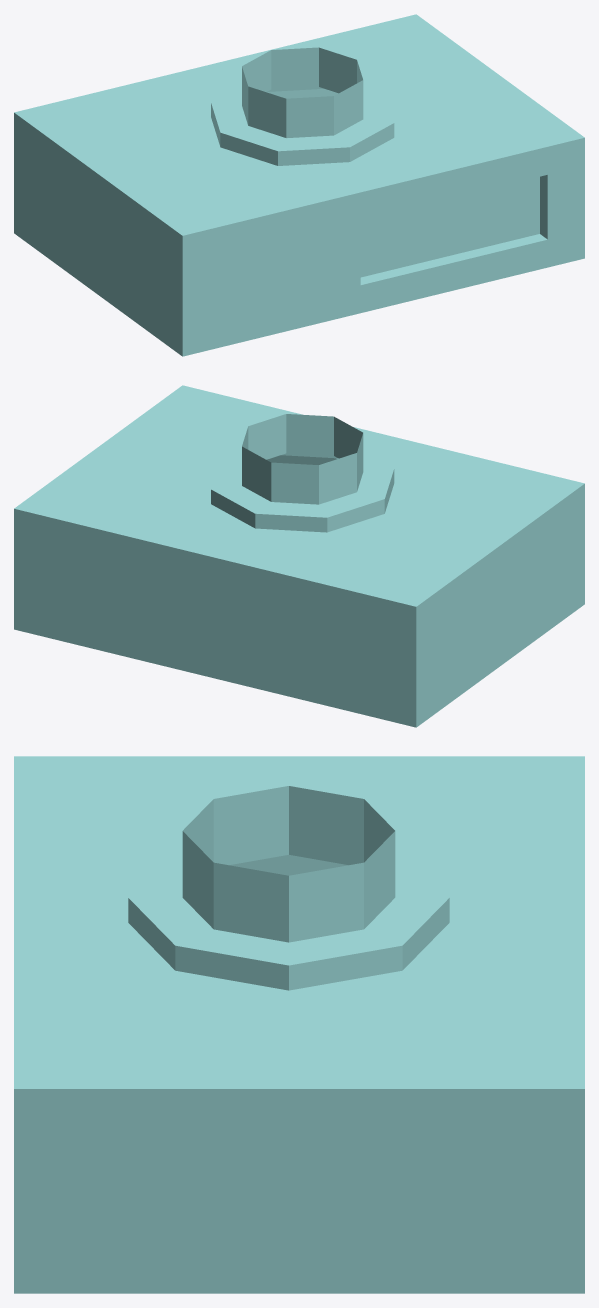
File: computer_bottom.fbx
3 renders of one model, top to bottom at view 1: azimuth 30°, elevation 25°; view 2: azimuth 150°, elevation 25°; view 3: azimuth 270°, elevation 25°, orthographic. The views are drawn at different scales.
Visible parts, largest first — view 1: computer_bottom; view 2: computer_bottom; view 3: computer_bottom.
Boxes of the visible parts, box(x1,y1,x2,y2) form: computer_bottom: box(14, 14, 584, 356); computer_bottom: box(14, 385, 584, 727); computer_bottom: box(14, 756, 584, 1293).
Bounding box in the file's own units: 2.13 × 0.8862 × 1.55.
